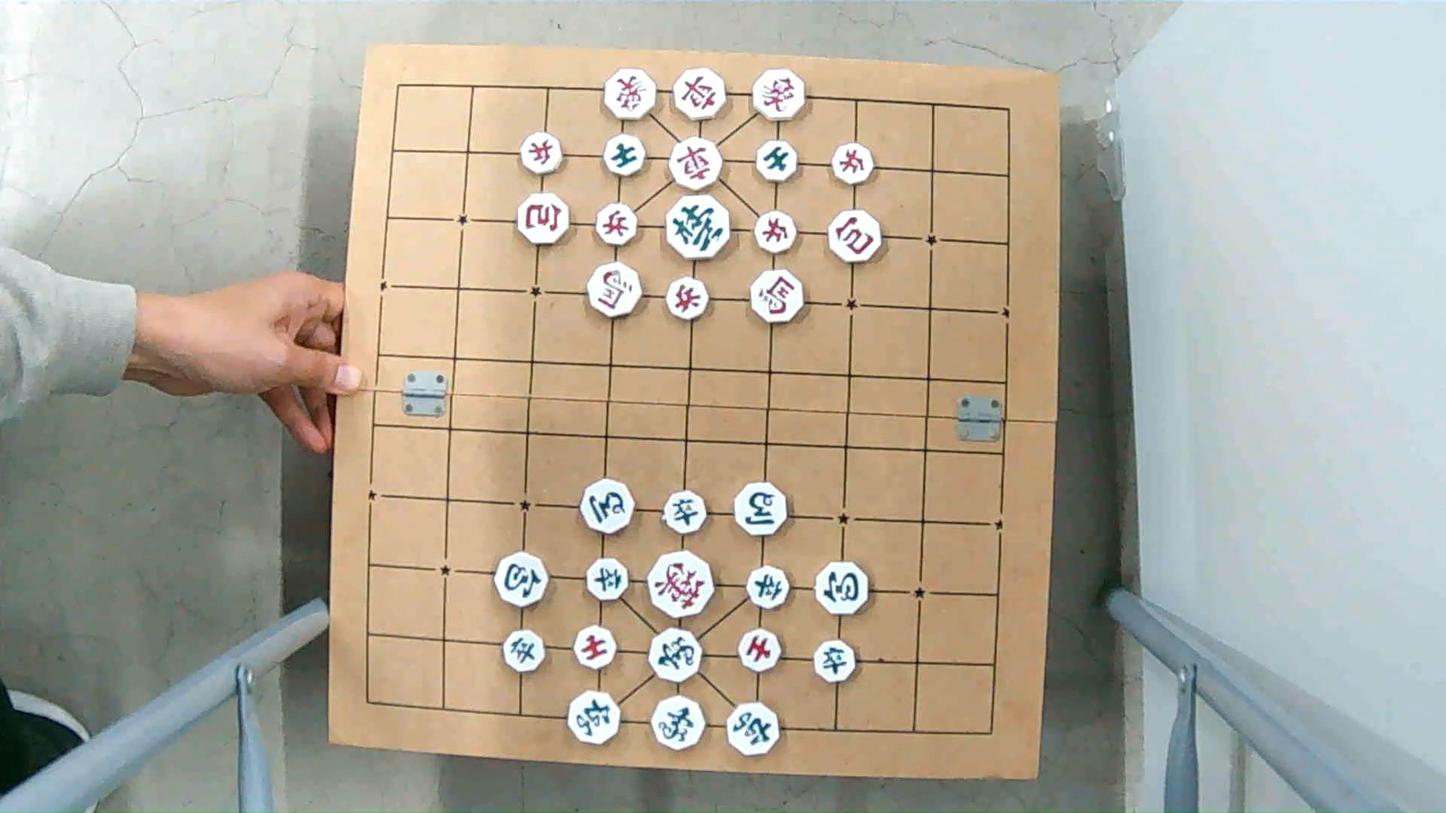cha_green: (725, 705, 784, 754), (564, 693, 621, 743)
cha_red: (665, 142, 725, 190), (674, 72, 733, 119)
jol_green: (746, 564, 792, 609), (583, 560, 631, 600), (661, 491, 709, 531), (501, 631, 546, 671), (811, 642, 857, 681)
jol_red: (750, 212, 801, 253), (664, 279, 712, 319), (594, 203, 642, 242), (518, 133, 565, 172), (829, 145, 876, 182)
ma_green: (732, 483, 791, 532), (581, 482, 638, 531)
ma_red: (587, 261, 641, 322), (751, 269, 812, 321)
po_green: (810, 562, 869, 613), (492, 554, 551, 604)
po_red: (825, 215, 883, 265), (520, 196, 575, 244)
sa_green: (756, 142, 801, 181), (602, 136, 648, 174)
sa_red: (737, 629, 782, 674), (570, 629, 617, 668)
sang_green: (648, 632, 706, 682), (648, 699, 706, 749)
sang_red: (599, 67, 657, 117), (751, 73, 808, 120)
wang_green: (664, 198, 734, 258)
wang_red: (644, 557, 715, 615)
